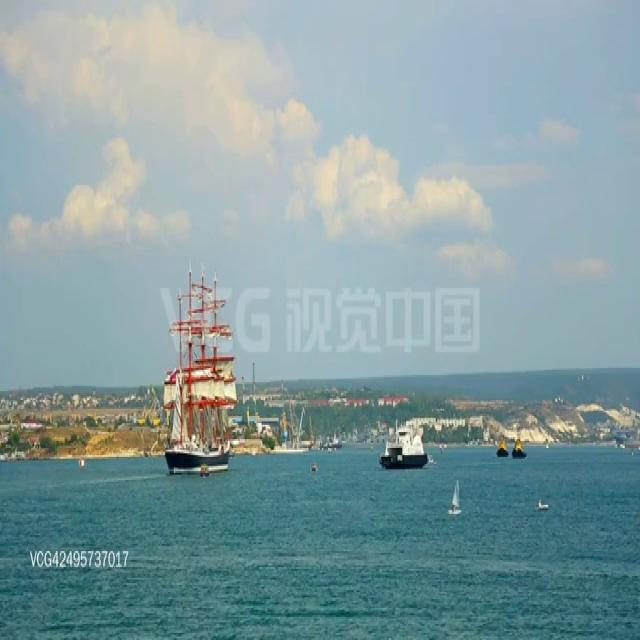houseboat: (379, 418, 425, 468), (510, 435, 527, 458), (496, 431, 508, 456), (536, 496, 549, 512), (200, 464, 210, 478), (310, 459, 316, 473)
sailboat: (162, 254, 233, 467), (447, 476, 462, 516)
